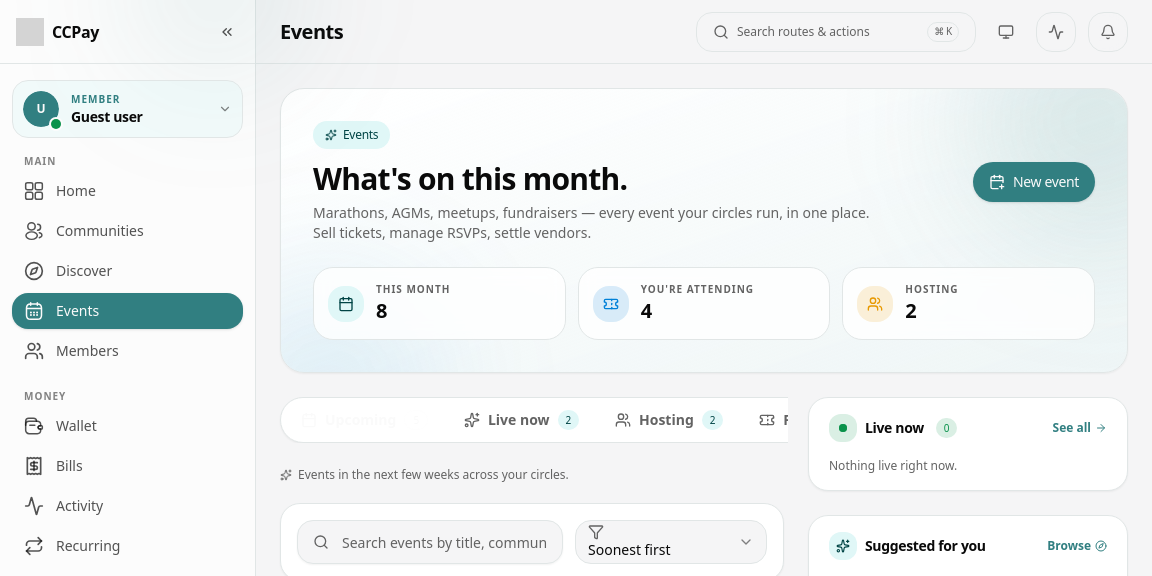
Test: /dashboard/events › falls back to MOCK_EVENTS when /v2/events returns empty
Click the tab "Live now 2" at (521, 420), box x1=448 y1=402 x2=595 y2=438
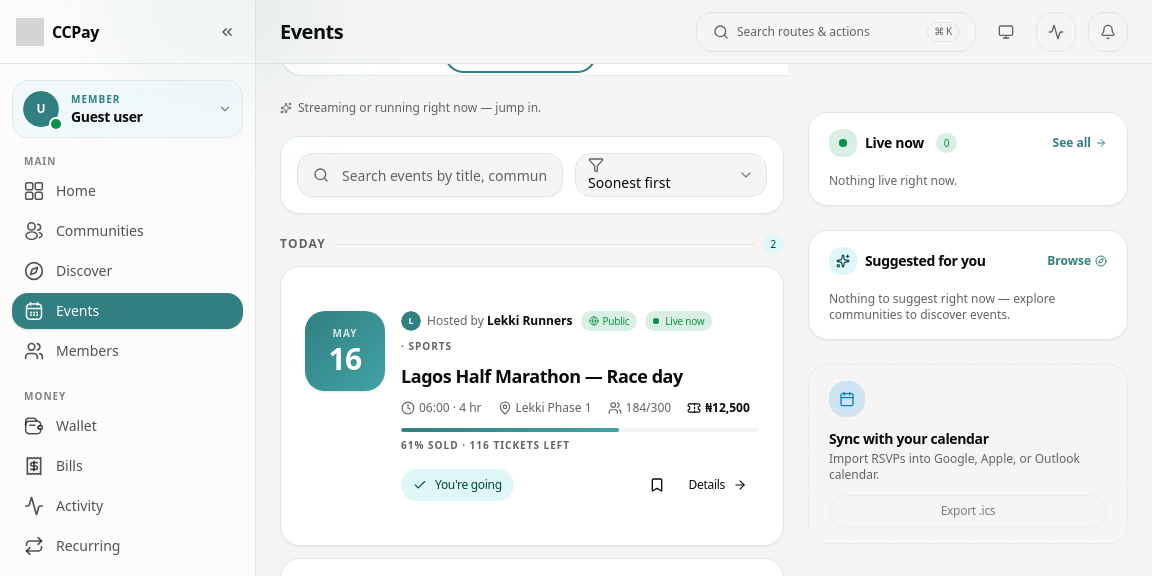
expect the heading "Lagos Half Marathon — Race day" is shown: met, box x1=401 y1=364 x2=683 y2=388
